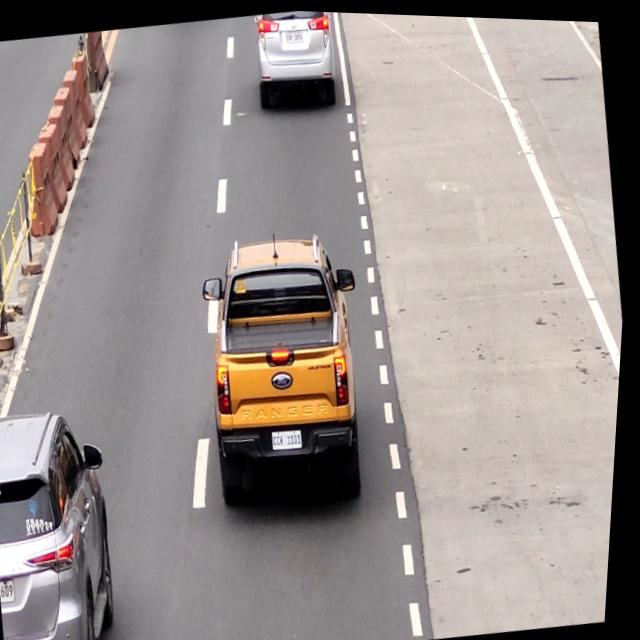Car: (194, 226, 382, 512), (0, 401, 137, 640), (244, 7, 347, 113)
License-Plate: (276, 424, 310, 451), (5, 578, 27, 607), (283, 28, 306, 43)
